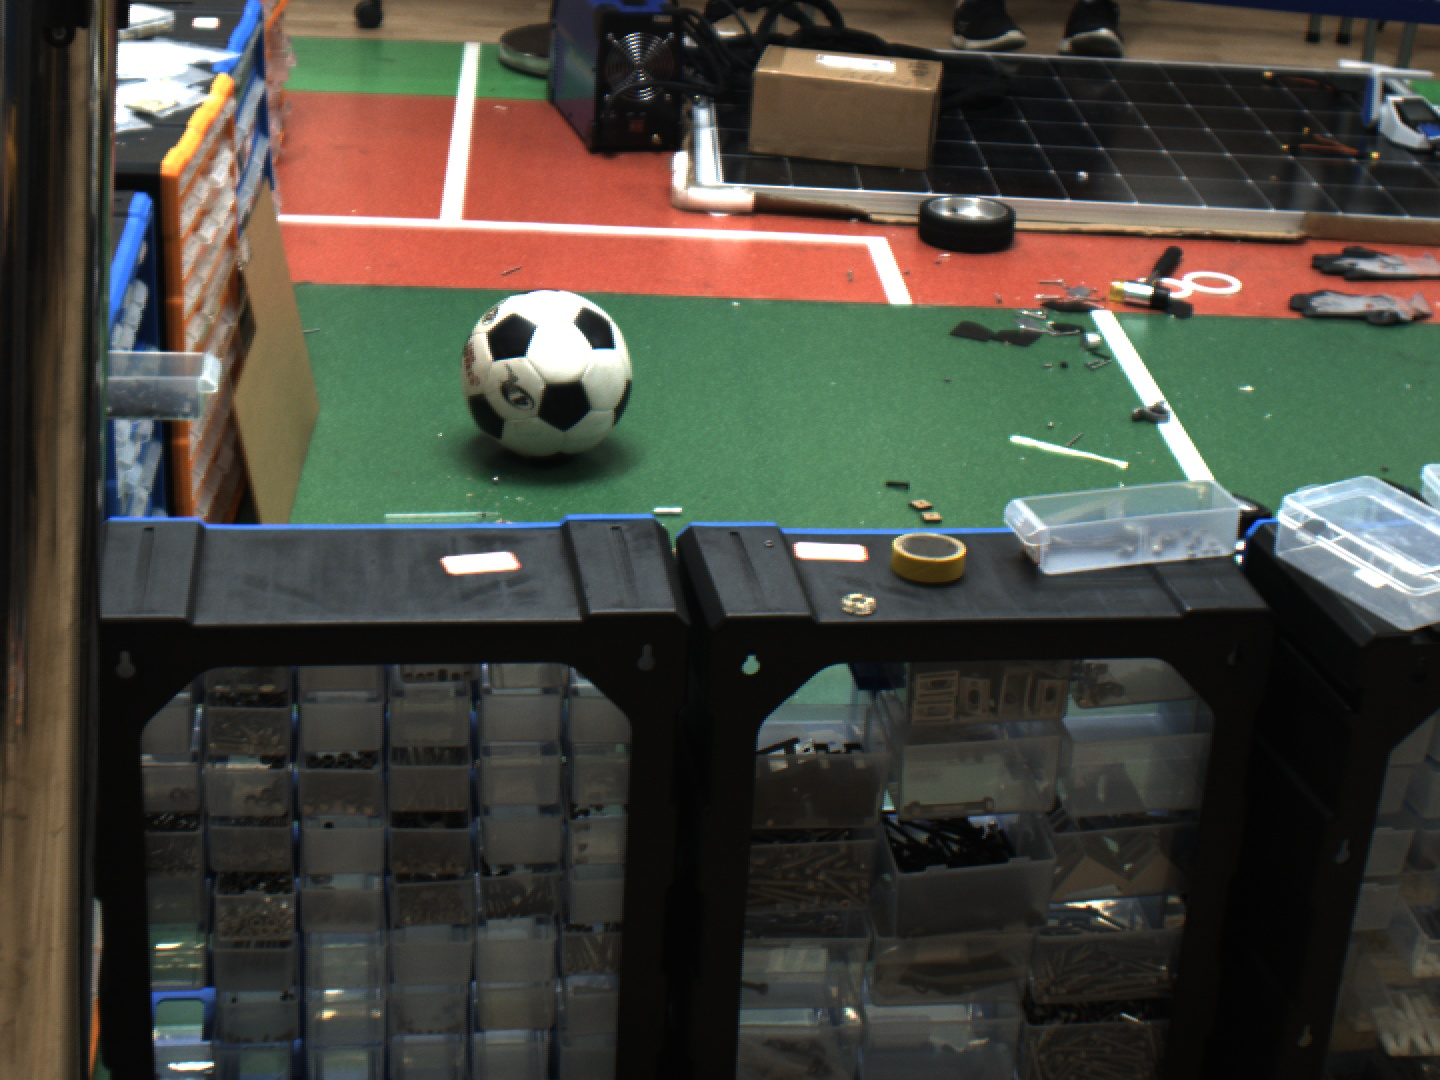ball: (442, 267, 668, 467)
